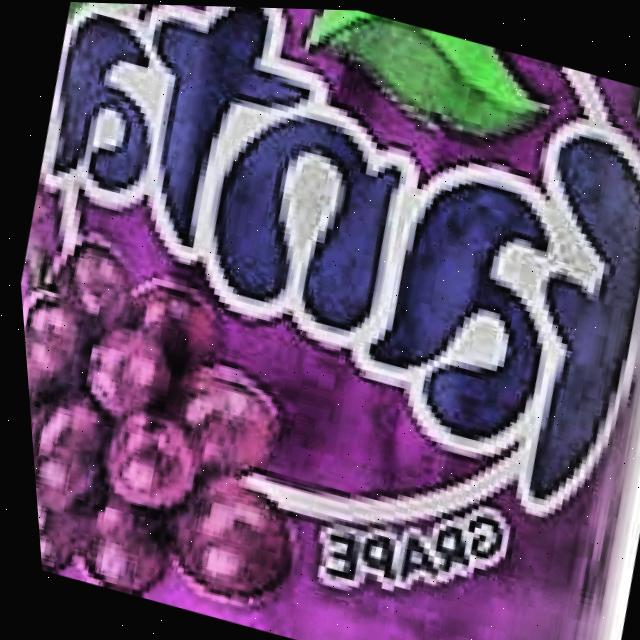metal: (16, 2, 640, 640)
